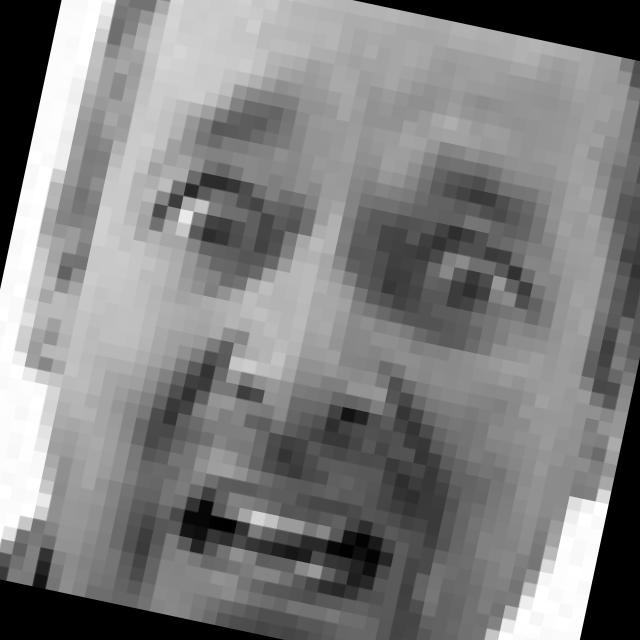fear: (60, 77, 574, 640)
